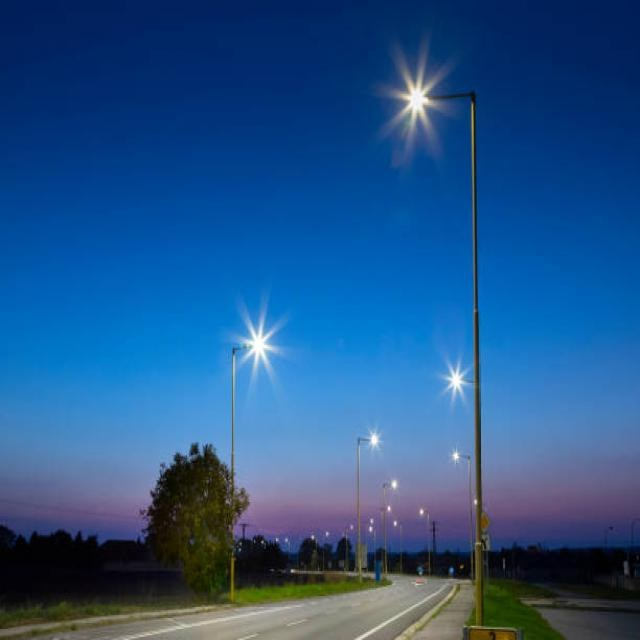acesa: (371, 36, 458, 142), (228, 298, 294, 381), (436, 346, 478, 407), (364, 426, 384, 454), (451, 446, 462, 464)
